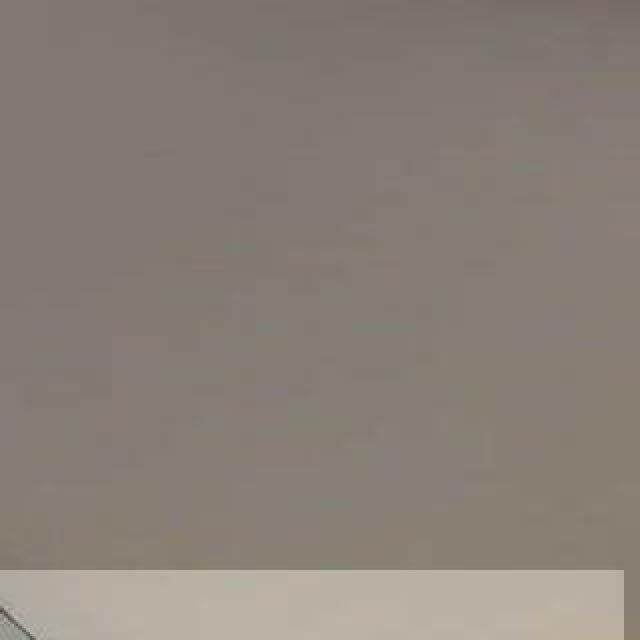fluorescent tube: (0, 576, 620, 640)
